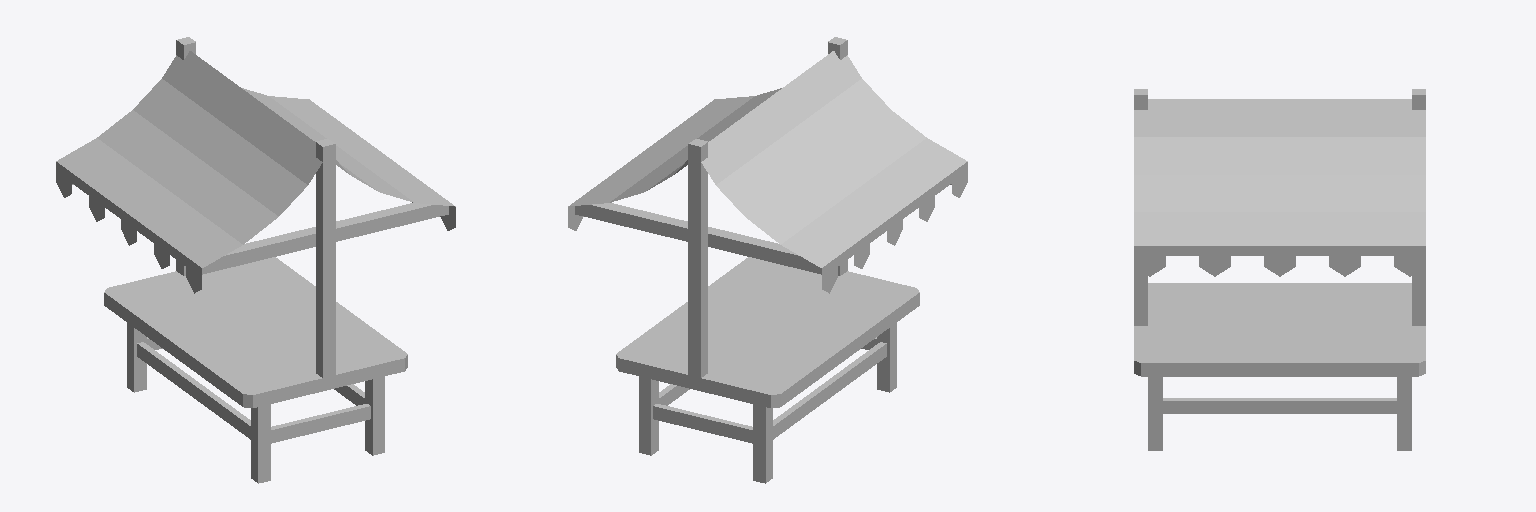
File: stall-red.obj
The picture shows the model from 3 angles: view 1: azimuth 30°, elevation 25°; view 2: azimuth 150°, elevation 25°; view 3: azimuth 270°, elevation 25°; orthographic projection.
Parts seen in each view (by area): view 1: stall-red; view 2: stall-red; view 3: stall-red.
Part boxes in pixels (x1,y1,x2,y2): stall-red: (56, 37, 455, 483); stall-red: (568, 37, 967, 483); stall-red: (1134, 89, 1425, 450).
Bounding box in the file's own units: 1 × 1.24 × 1.